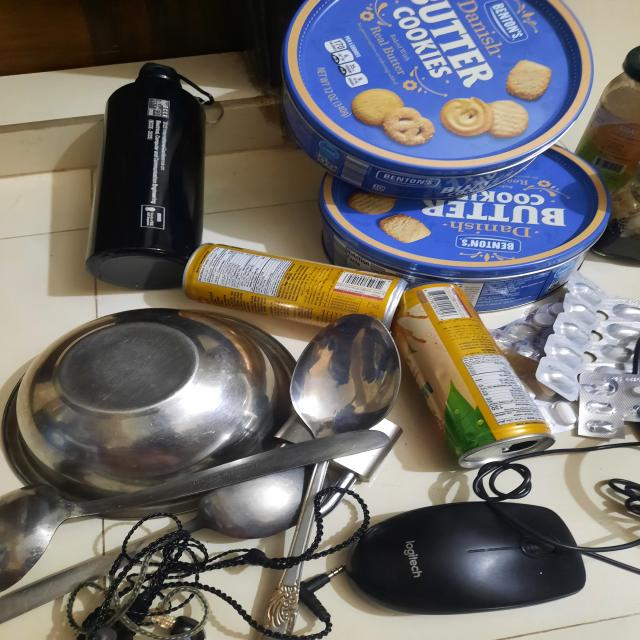Cable: (68, 518, 330, 640)
E-waste: (350, 469, 582, 612)
Medical Waste: (529, 284, 640, 452)
Metal: (17, 301, 383, 509)
can: (267, 0, 626, 282), (70, 59, 214, 284), (222, 256, 404, 313)
